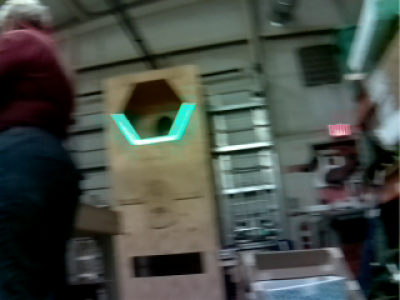target: (110, 101, 196, 145)
